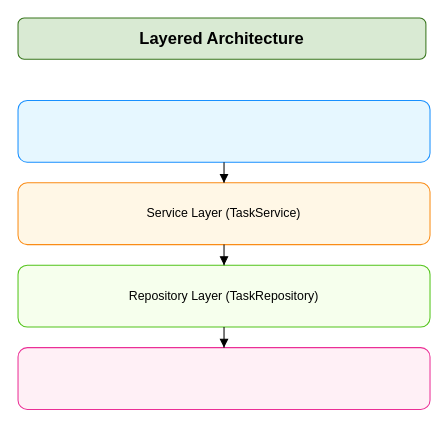
Image size: 448x427. Some labels were removed from this diagram. Each missing label, with the centre of its shape:
"Client/API Layer (TaskController)" goes at (x=223, y=130).
"Database Layer (MySQL/PostgreSQL)" goes at (x=223, y=378).
